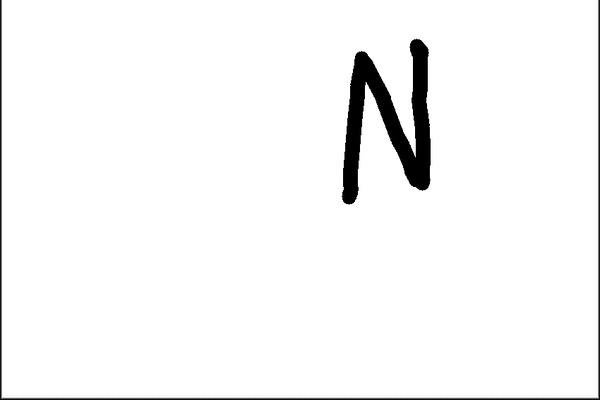N: (335, 35, 441, 209)
